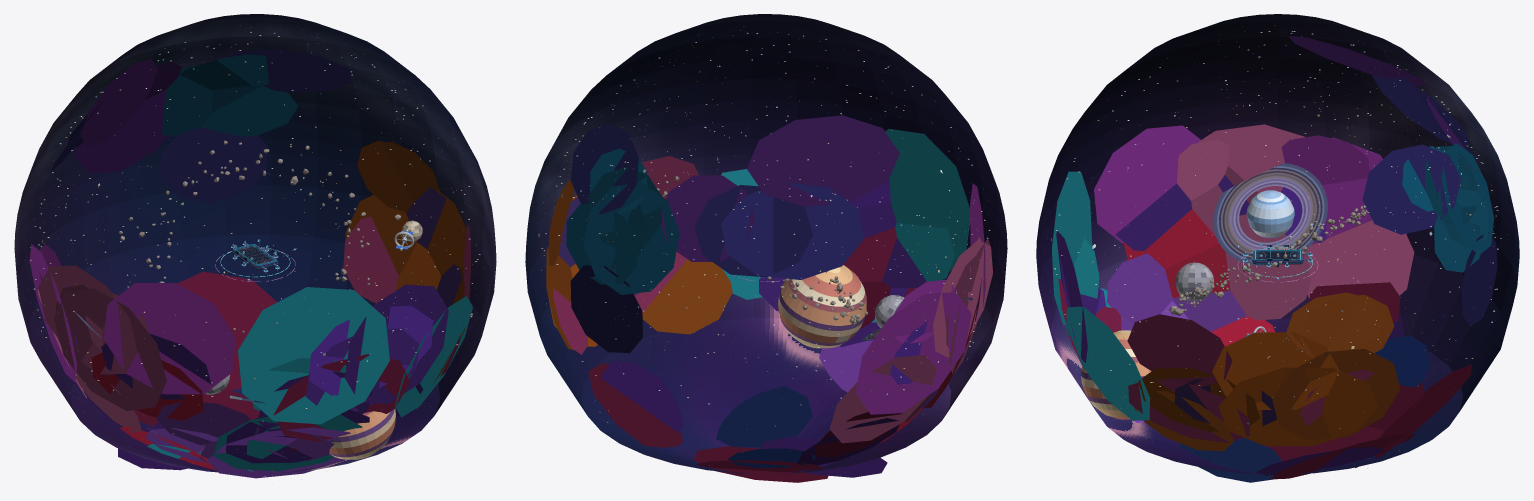
File: space.glb
The picture shows the model from 3 angles, left to right: view 1: azimuth 30°, elevation 25°; view 2: azimuth 150°, elevation 25°; view 3: azimuth 270°, elevation 25°; orthographic projection.
Parts seen in each view (by area): view 1: fx_nebula, sky, scenery; view 2: fx_nebula, sky, scenery; view 3: fx_nebula, sky, scenery.
Part boxes in pixels (bbox=[...]): fx_nebula: bbox=[29, 49, 472, 478]; sky: bbox=[14, 14, 496, 476]; scenery: bbox=[119, 140, 422, 459]; fx_nebula: bbox=[546, 115, 992, 482]; sky: bbox=[525, 14, 1007, 474]; scenery: bbox=[657, 176, 904, 348]; fx_nebula: bbox=[1052, 36, 1497, 482]; sky: bbox=[1036, 14, 1519, 473]; scenery: bbox=[1081, 190, 1367, 419].
Bounding box in the file's own units: 640 × 640 × 640.
Materials: 11 (11 with a texture image).
